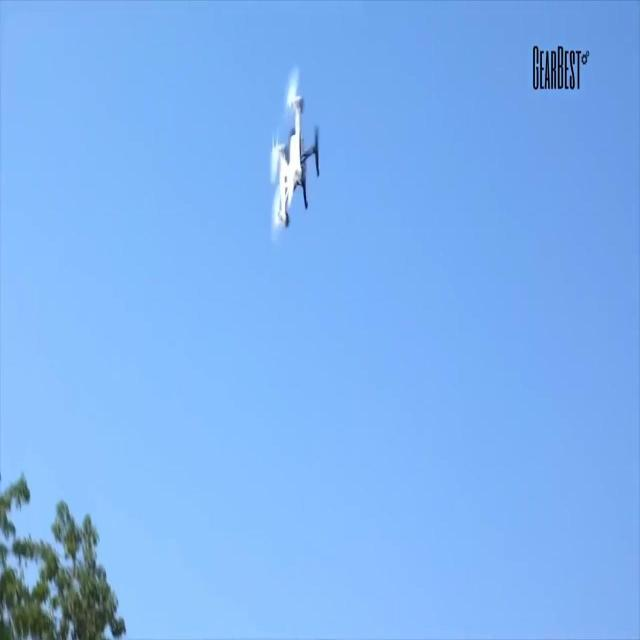drone: (254, 63, 322, 242)
